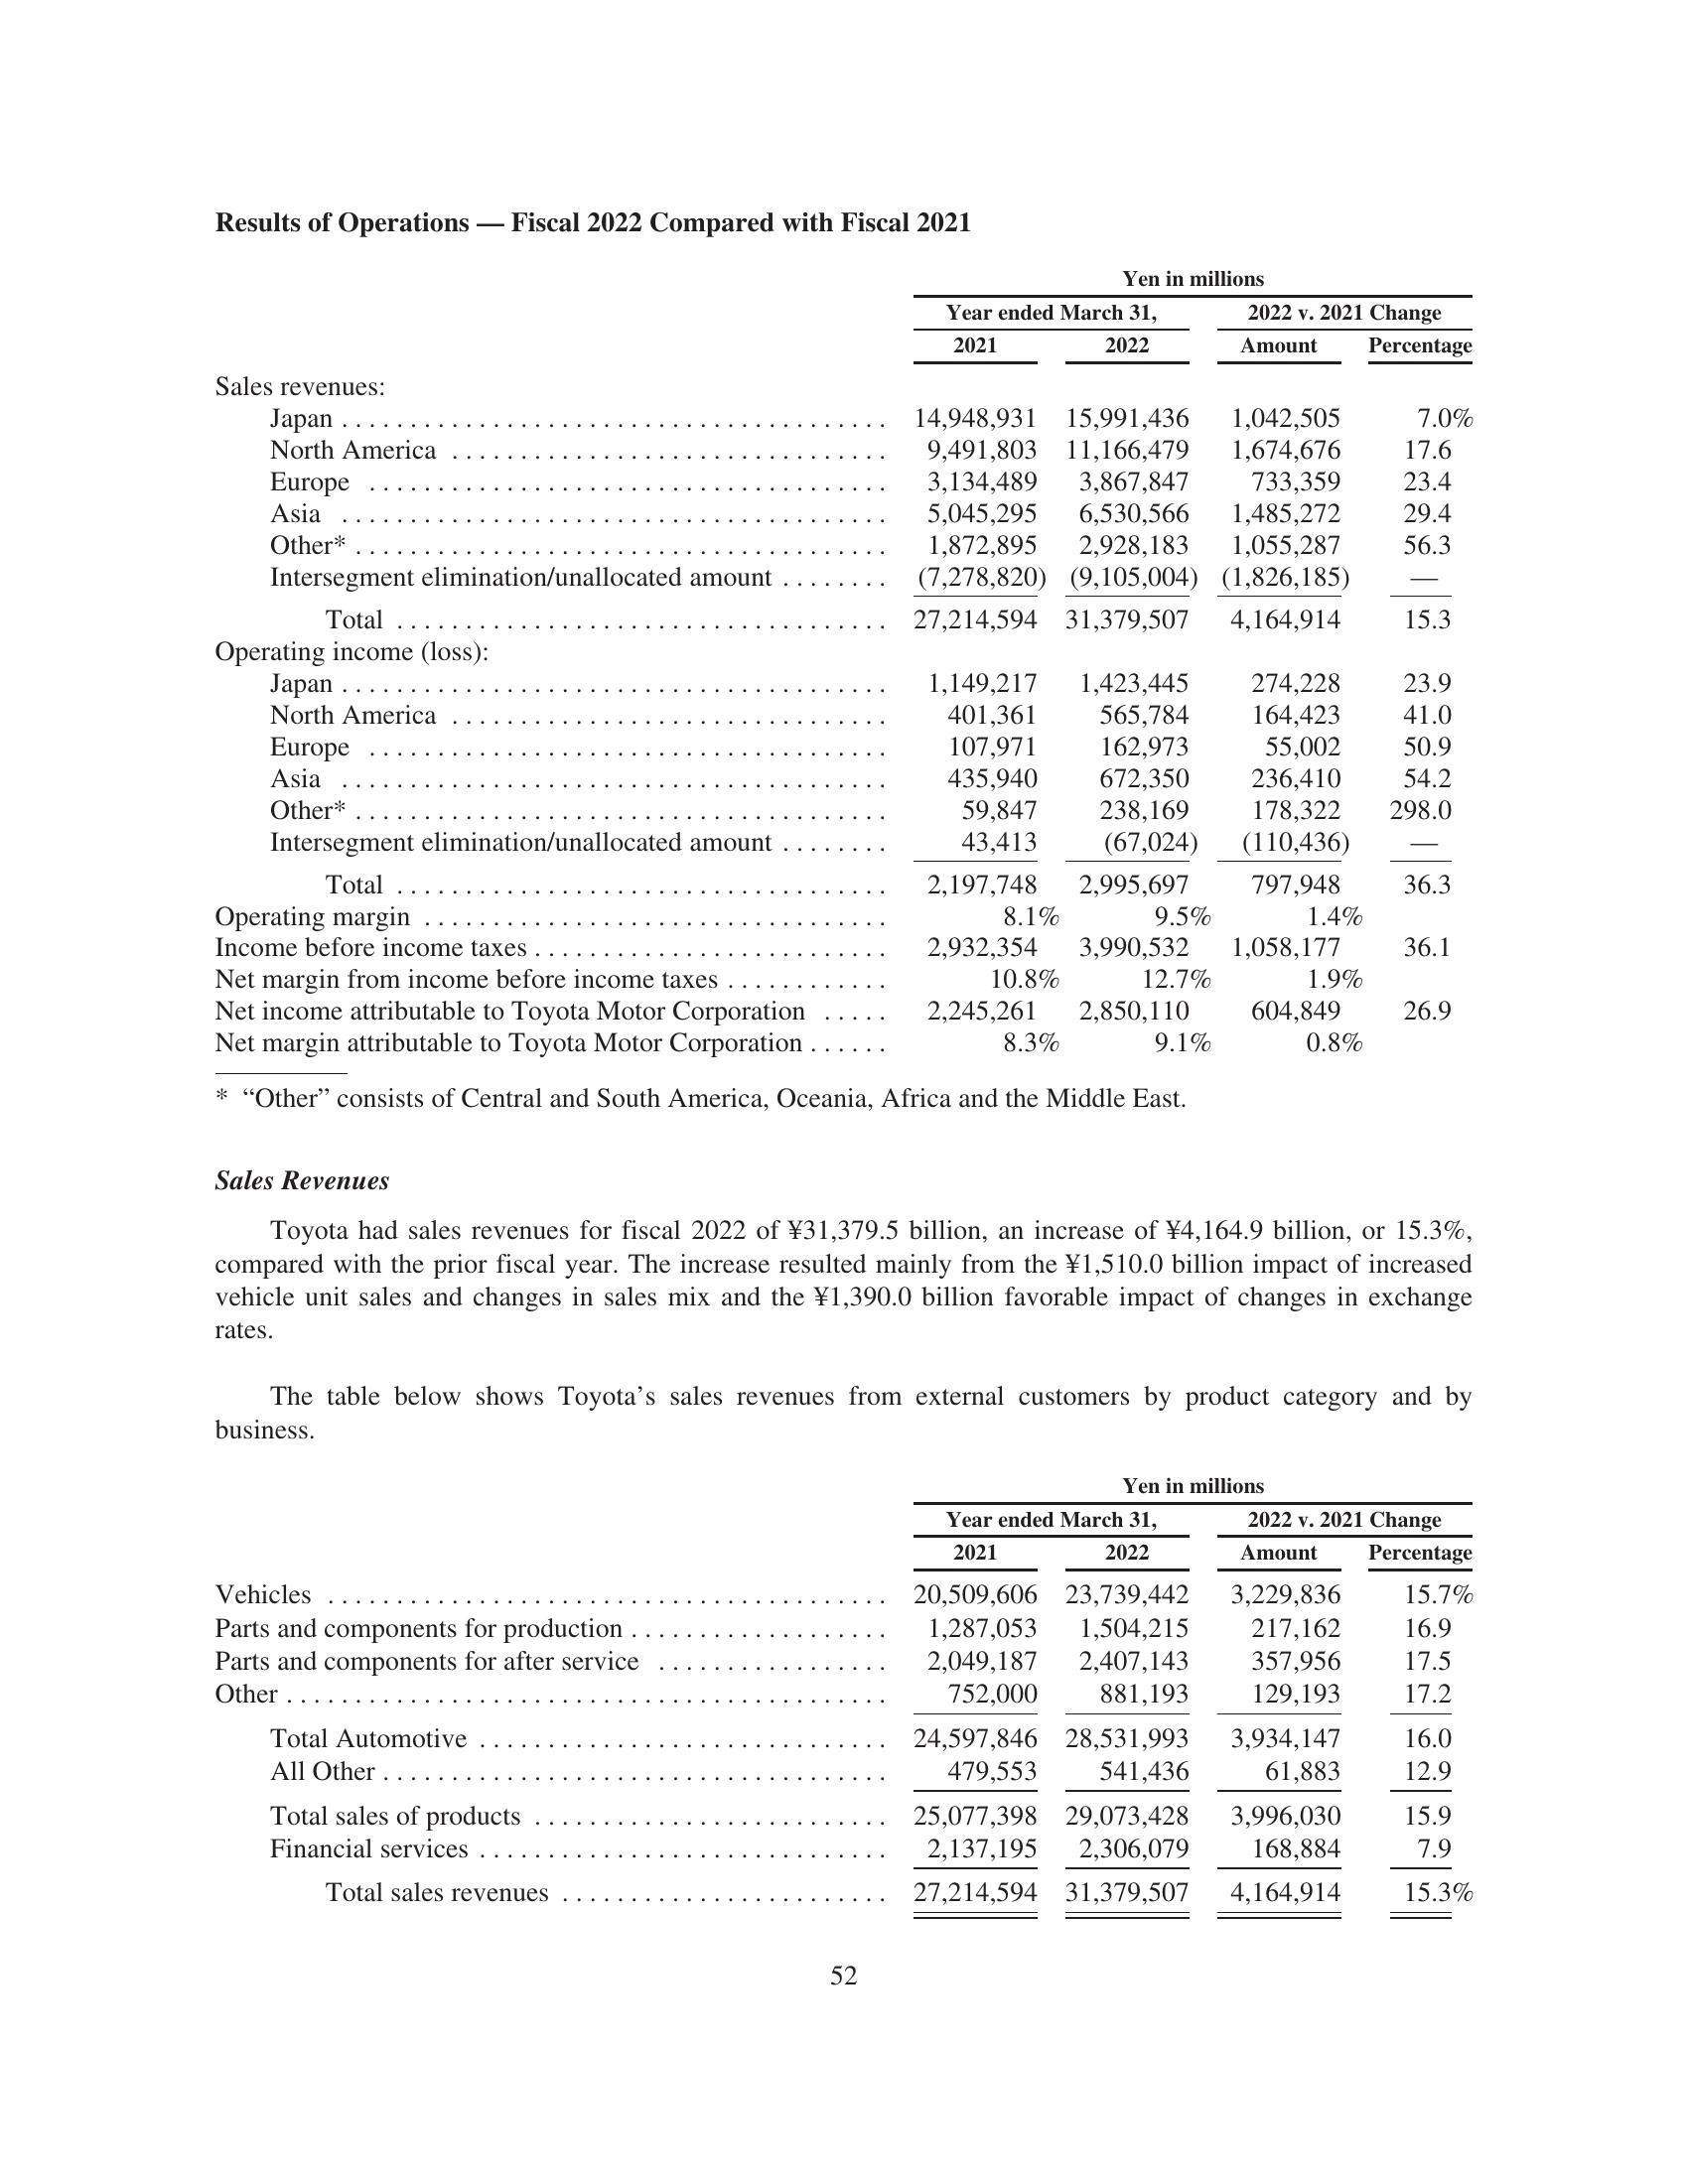Footer: (0, 1941, 1688, 2184)
Header: (0, 0, 1688, 191)
Table: (151, 246, 1488, 1072), (154, 1473, 1534, 1941)
